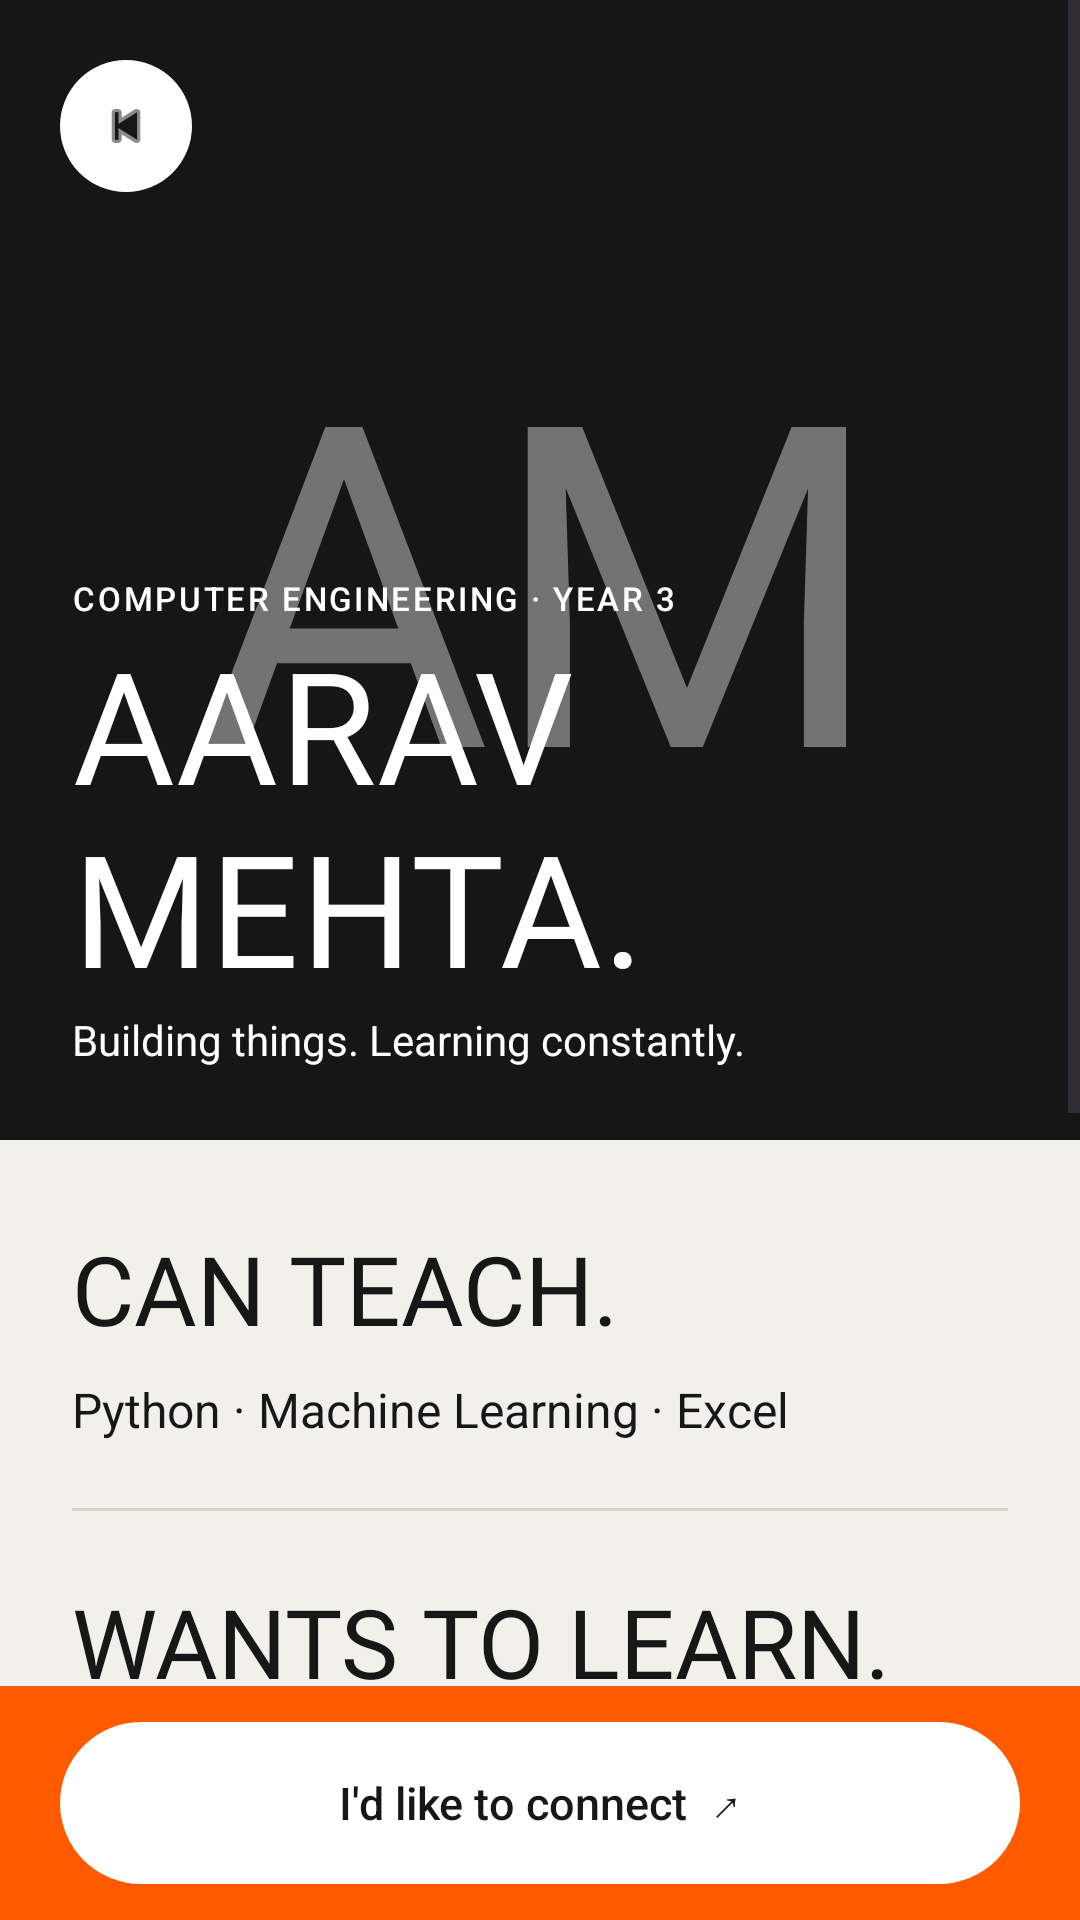

Icons on this 1080px x 1920px Android screen, each with its box as {"x1": x1, "y1": y1, "x2": x2, "y2": y2}:
Go back: {"x1": 60, "y1": 60, "x2": 192, "y2": 192}
